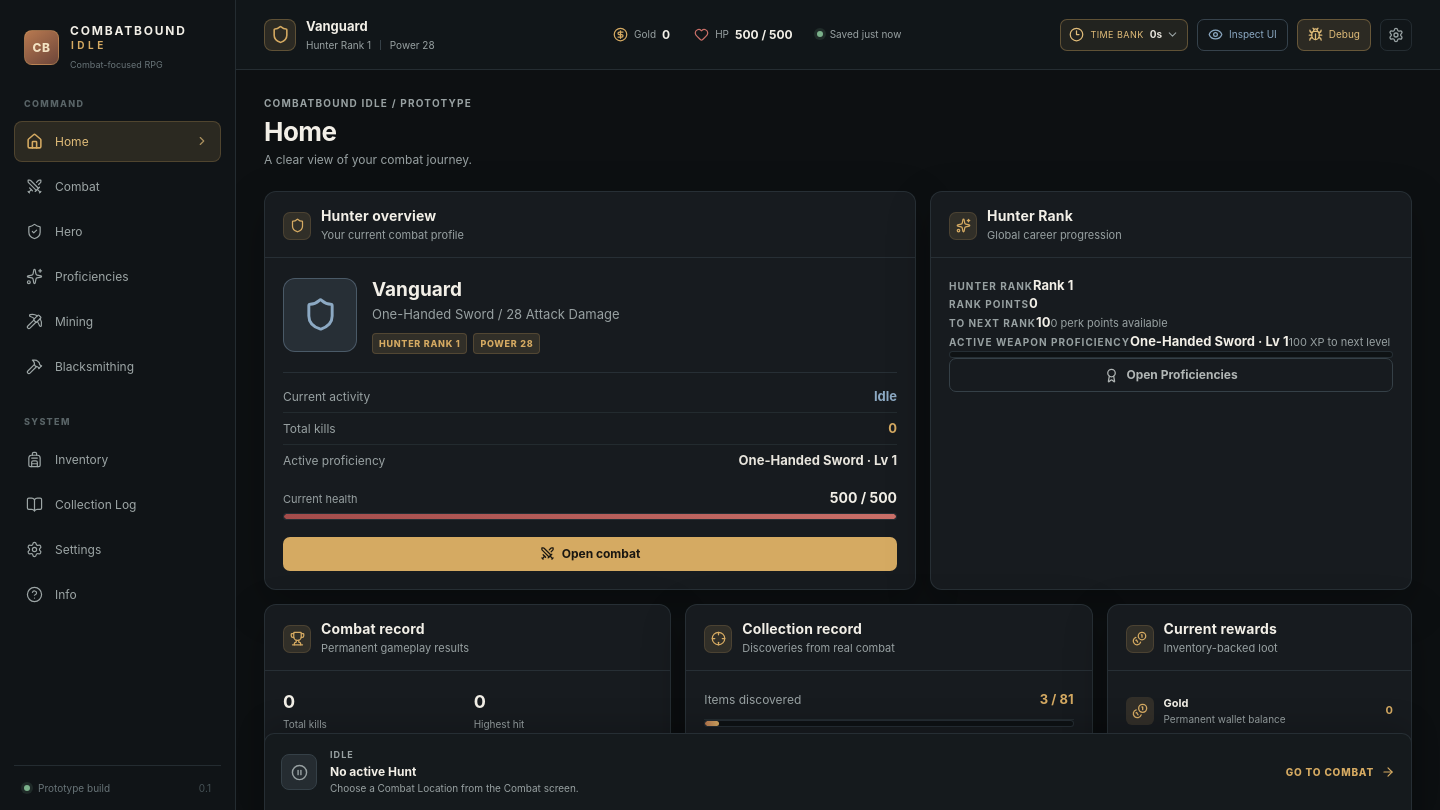
it: application shell › keeps the shell mounted while navigation changes screens
Check: the navigation bar named "Primary navigation" is shown, box [14,97,221,764]
Check: the text "Saved just now" is shown, box [817,27,901,42]
What coordinates should you click on to do the following:
click the button "Inventory"
I would click on:
 (118, 460)
Its box is [14,439,221,480].
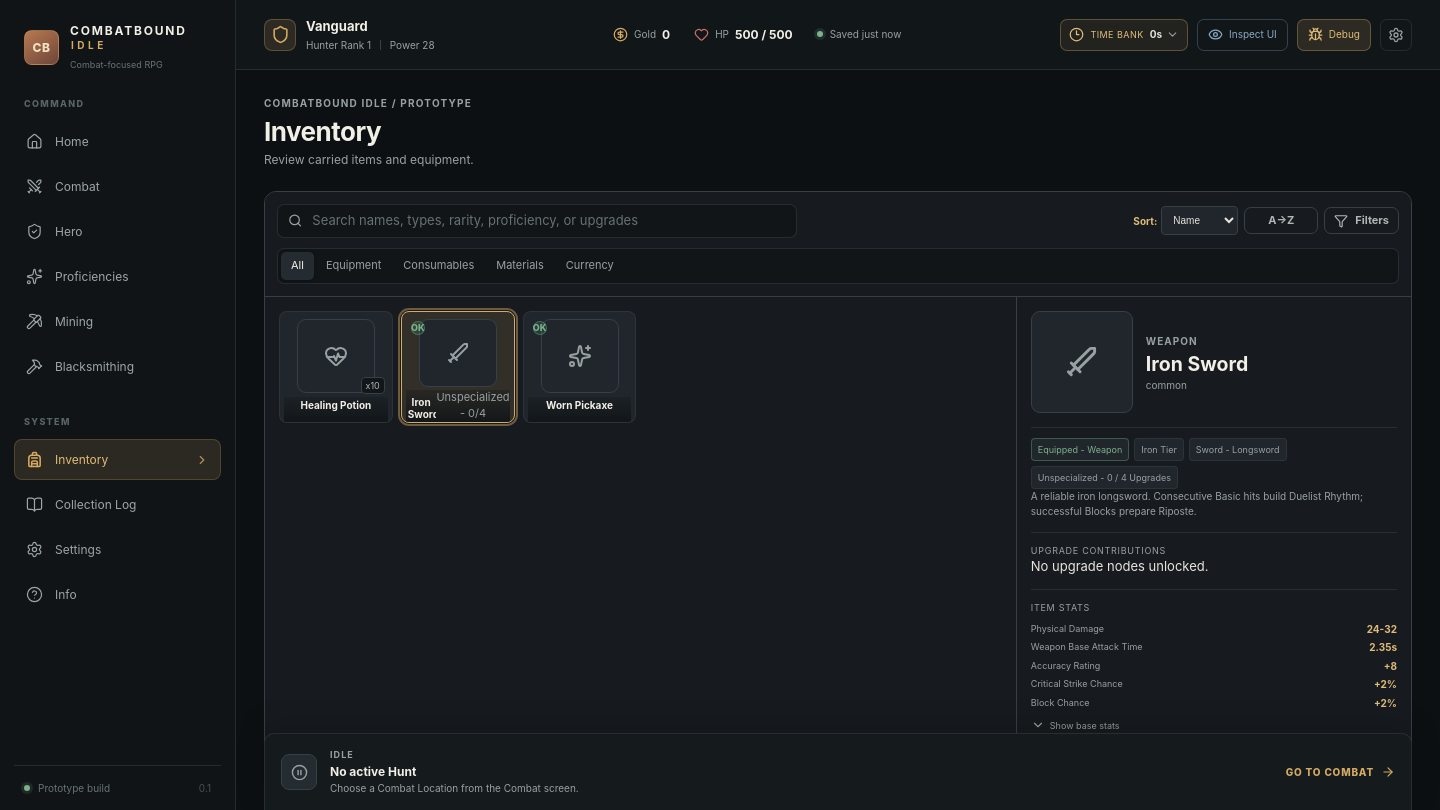
Check: the text "Saved just now" is shown, box [817,27,901,42]
Check: the heading "Inventory" is shown, box [264,116,381,146]
